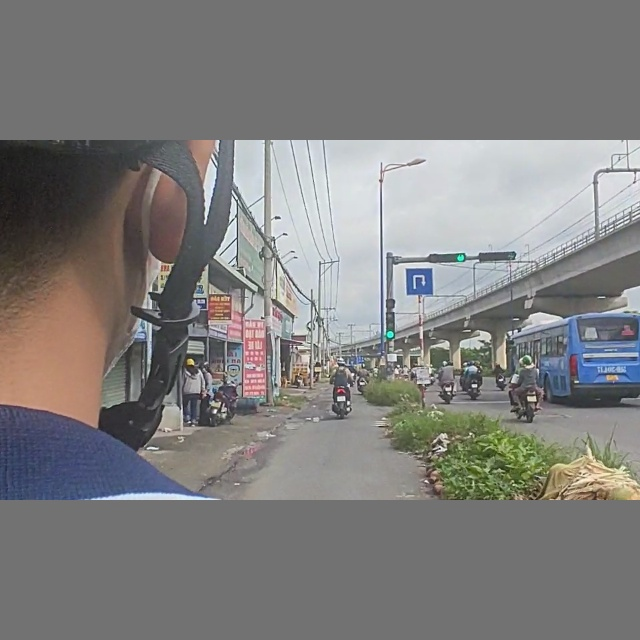I.409: (403, 266, 435, 297)
